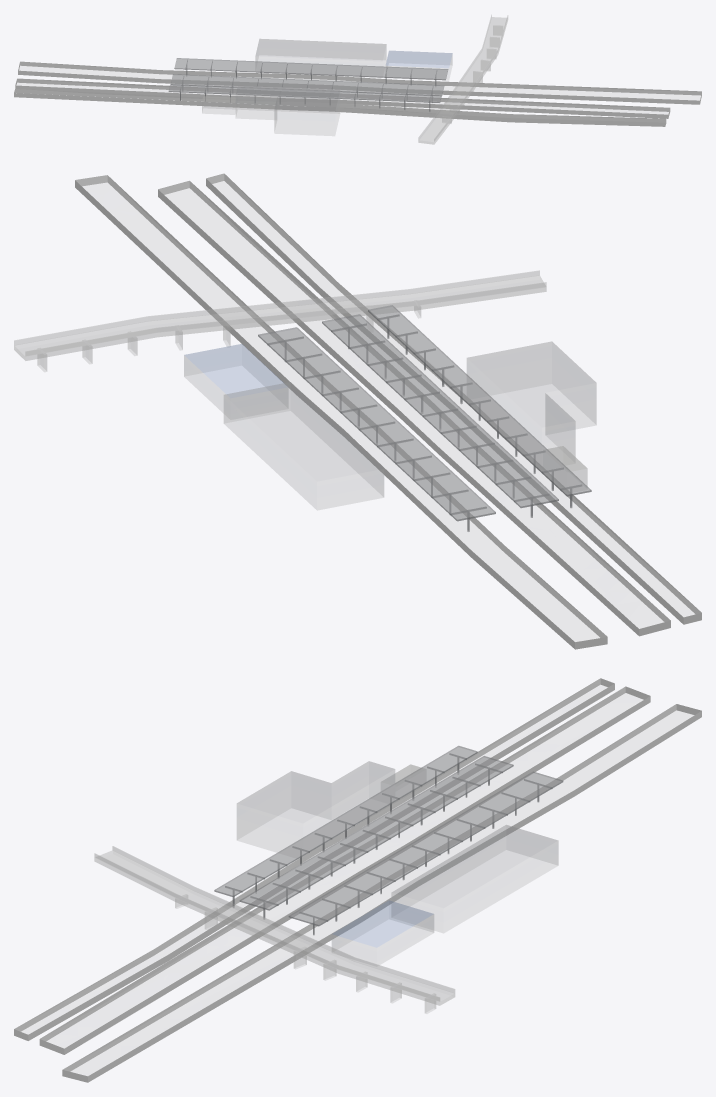
Rendered from ESTACAO.preview.glb.
The picture shows the model from 3 angles, top to bottom: view 1: azimuth 30°, elevation 25°; view 2: azimuth 150°, elevation 25°; view 3: azimuth 270°, elevation 25°; orthographic projection. The views are drawn at different scales.
Parts seen in each view (by area): view 1: obj_9be0, obj_44000, obj_24130, obj_4f680, obj_301b0, obj_3c4b0, obj_37da0, obj_39bc0; view 2: obj_44000, obj_24130, obj_4f680, obj_9be0, obj_301b0, obj_3c4b0, obj_37da0, obj_39bc0; view 3: obj_24130, obj_44000, obj_9be0, obj_4f680, obj_301b0, obj_3c4b0, obj_37da0, obj_39bc0.
Part boxes in pixels (x1,y1,x2,y2): obj_9be0: (14, 61, 701, 126); obj_44000: (169, 39, 452, 111); obj_24130: (14, 17, 701, 141); obj_4f680: (168, 58, 448, 111); obj_301b0: (202, 14, 508, 141); obj_3c4b0: (235, 42, 452, 120); obj_37da0: (418, 17, 508, 144); obj_39bc0: (235, 39, 452, 114); obj_44000: (185, 305, 595, 519); obj_24130: (15, 174, 701, 641); obj_4f680: (258, 305, 591, 531); obj_9be0: (75, 173, 701, 649); obj_301b0: (14, 270, 596, 510); obj_3c4b0: (184, 346, 596, 497); obj_37da0: (14, 276, 546, 371); obj_39bc0: (184, 342, 596, 485); obj_24130: (15, 678, 700, 1075); obj_44000: (215, 746, 562, 947); obj_9be0: (14, 678, 701, 1082); obj_4f680: (214, 746, 563, 935); obj_301b0: (94, 770, 558, 1001); obj_3c4b0: (236, 765, 558, 961); obj_37da0: (94, 851, 455, 1013); obj_39bc0: (236, 762, 558, 951).
Bounding box in the file's own units: 1299 × 65.17 × 963.
